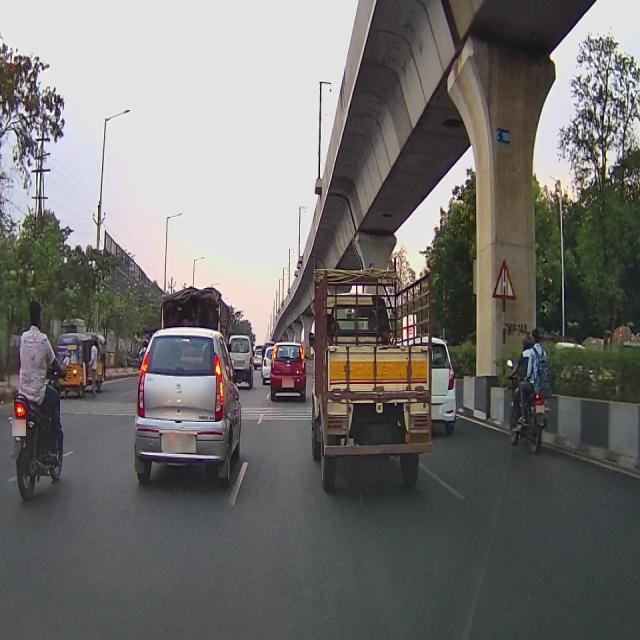car ahead at: (134, 320, 242, 493)
motorcycle ahead at: (6, 374, 66, 508)
truck ahead at: (312, 266, 431, 488)
